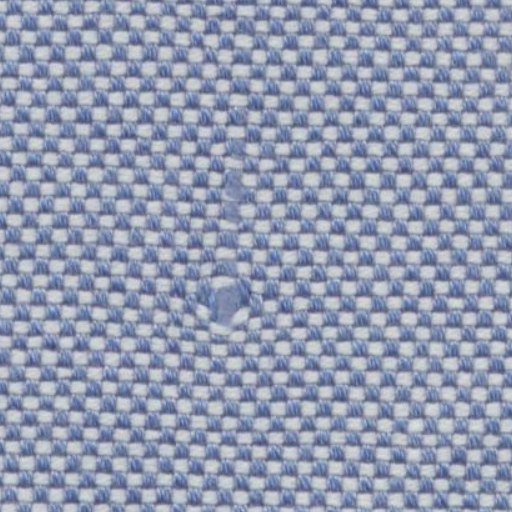PoDong: (162, 272, 296, 351)
